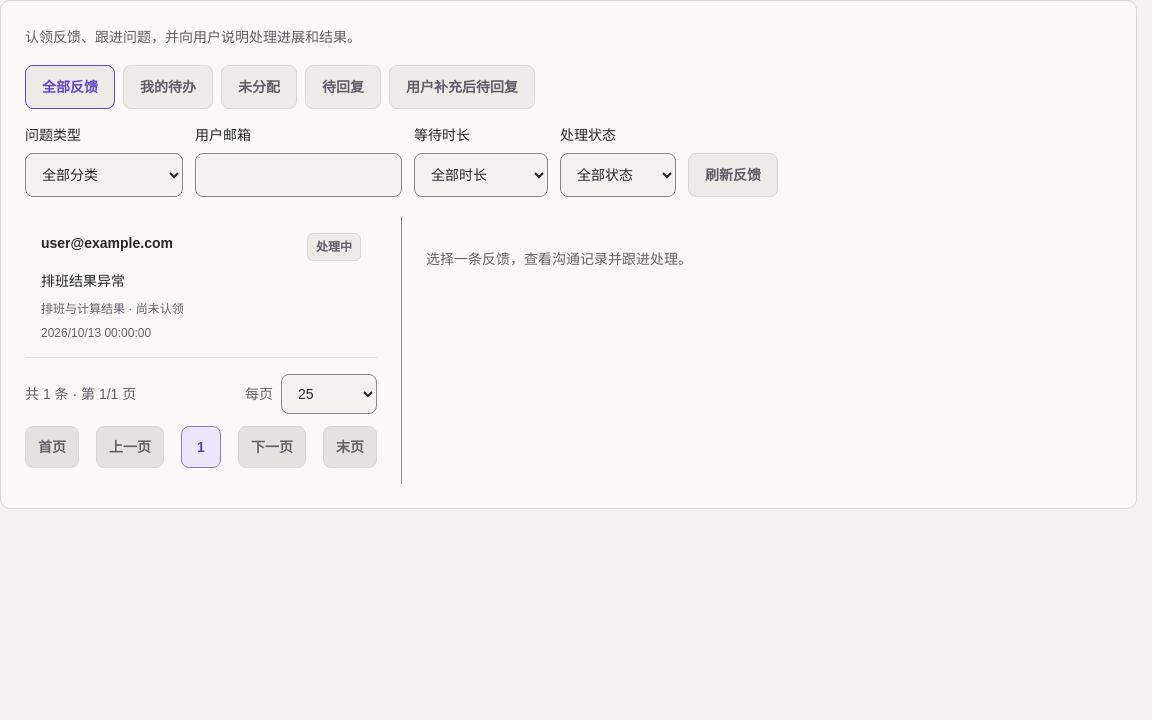
it: lets viewers inspect follow-up records without mutation controls
Step 1. Click the button "user@example.com" → click(107, 243), box top-left (25, 217), bottom-right (377, 357)
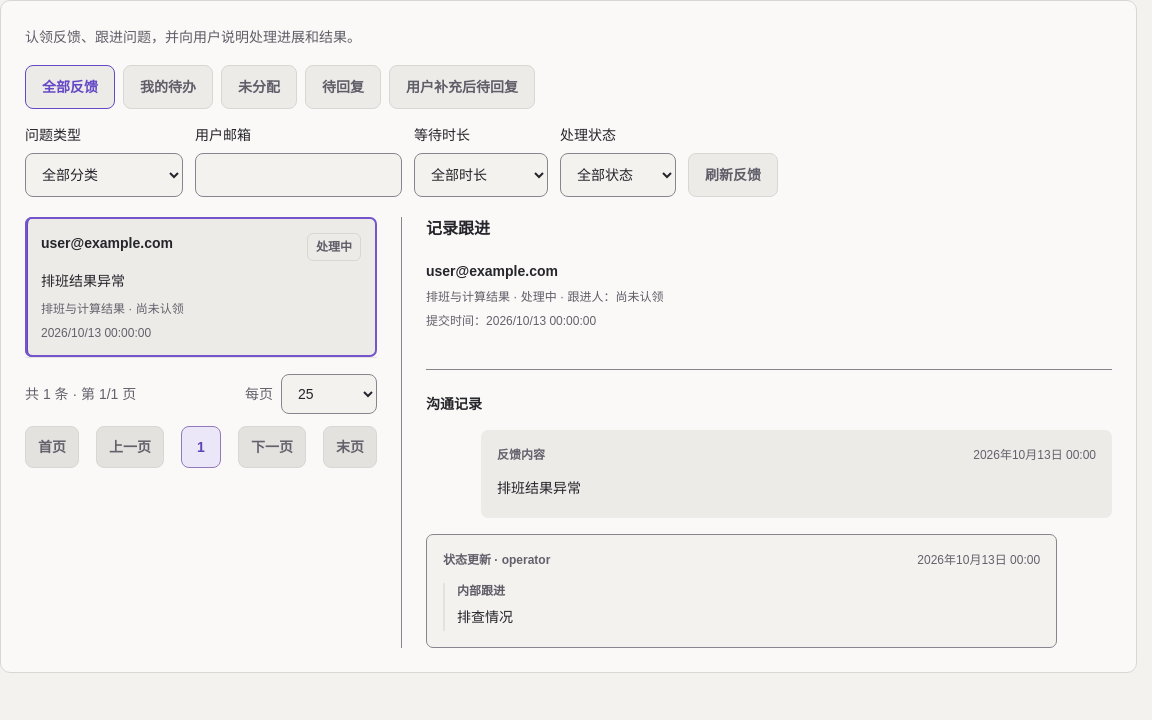
Result: the text "排查情况" is shown at top-left (457, 609), bottom-right (513, 625)
